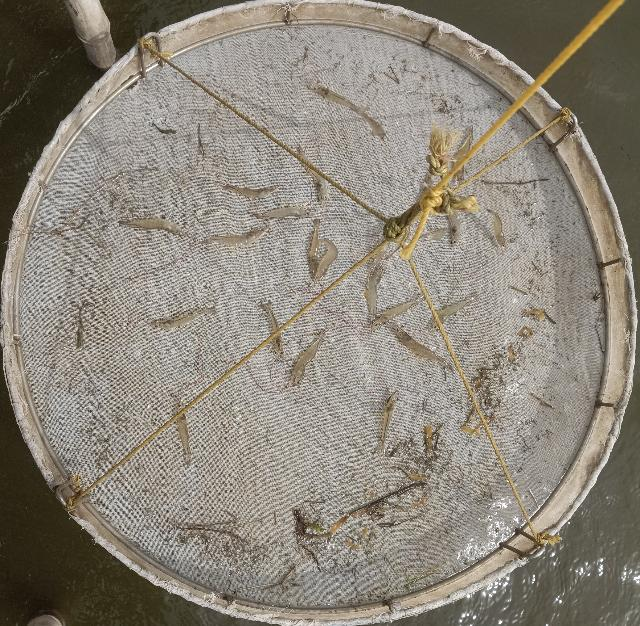shrimp: (388, 321, 454, 372), (287, 329, 326, 391), (429, 295, 482, 335), (368, 296, 426, 331), (297, 144, 329, 205), (309, 81, 370, 112), (372, 391, 399, 456), (149, 307, 216, 330), (259, 300, 284, 360), (201, 226, 270, 247), (347, 106, 388, 141), (117, 218, 188, 237), (311, 238, 338, 286), (364, 268, 387, 322), (176, 399, 191, 468), (486, 209, 507, 254), (251, 205, 314, 219), (221, 186, 279, 200), (309, 218, 320, 278), (448, 210, 462, 249), (417, 227, 448, 241)
